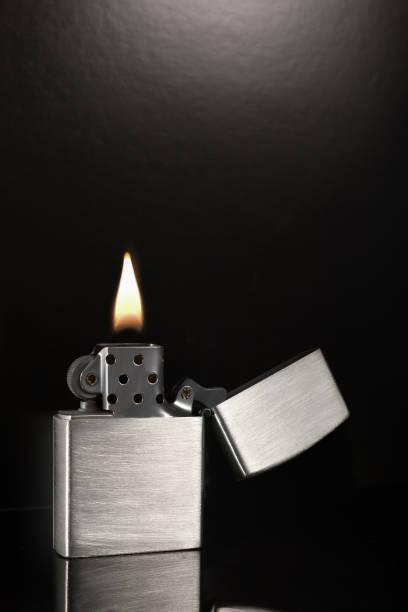Fire: (112, 246, 152, 343)
